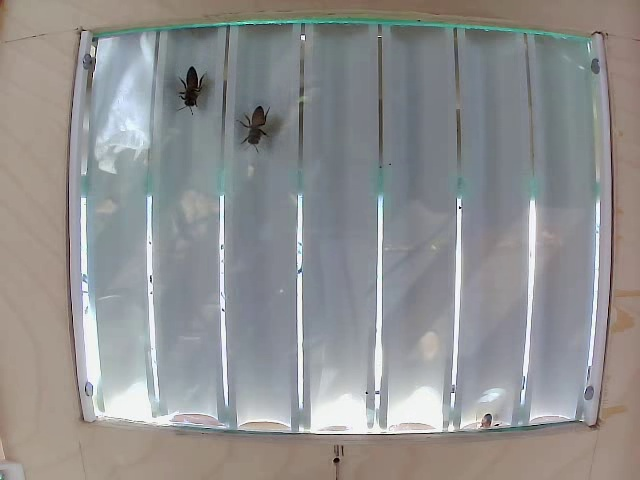bee: (237, 102, 275, 155), (178, 63, 204, 117)
